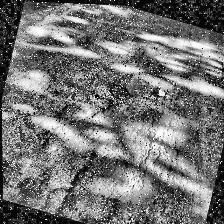pothole: (78, 69, 138, 133)
